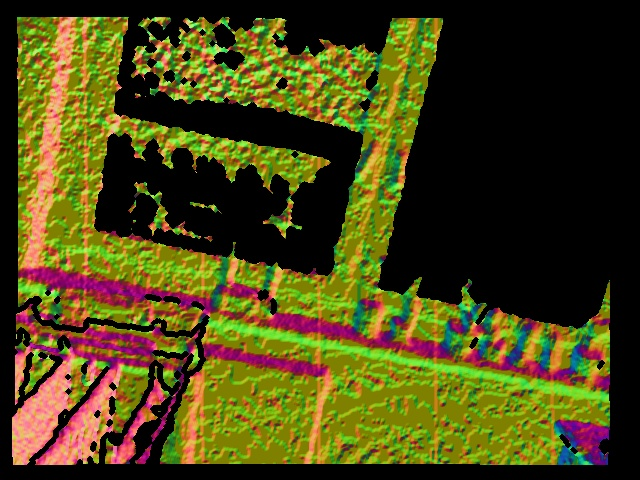station: (212, 239, 284, 323)
